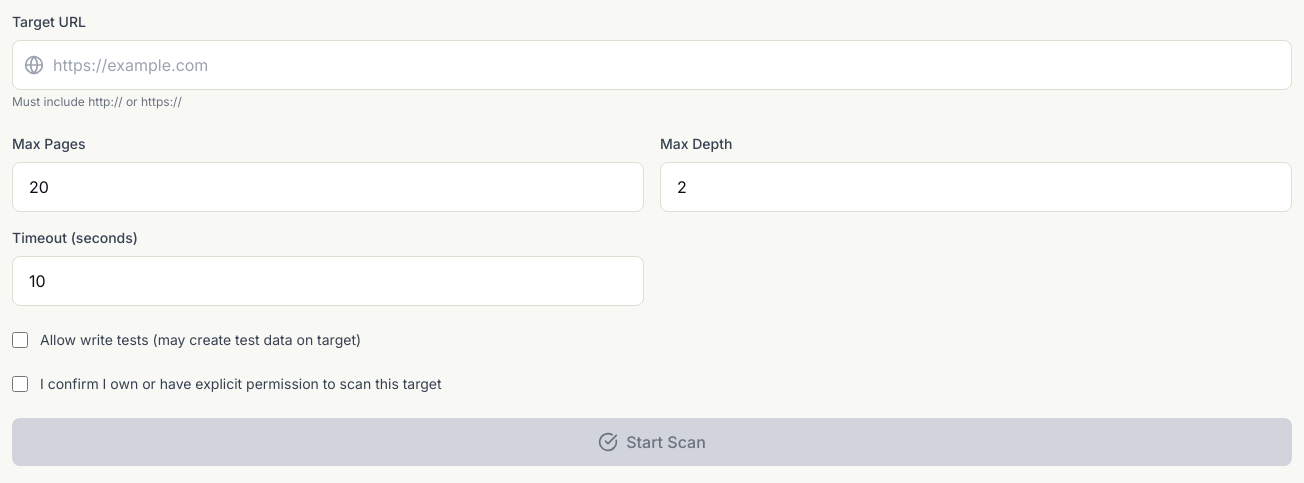
ScanWizard › clamps maxDepth to 0-10 range
The width and height of the screenshot is (1304, 483).
Replace the text in the number field labelled "Max Depth" with "-1" at (976, 187), box [660,162,1292,212]
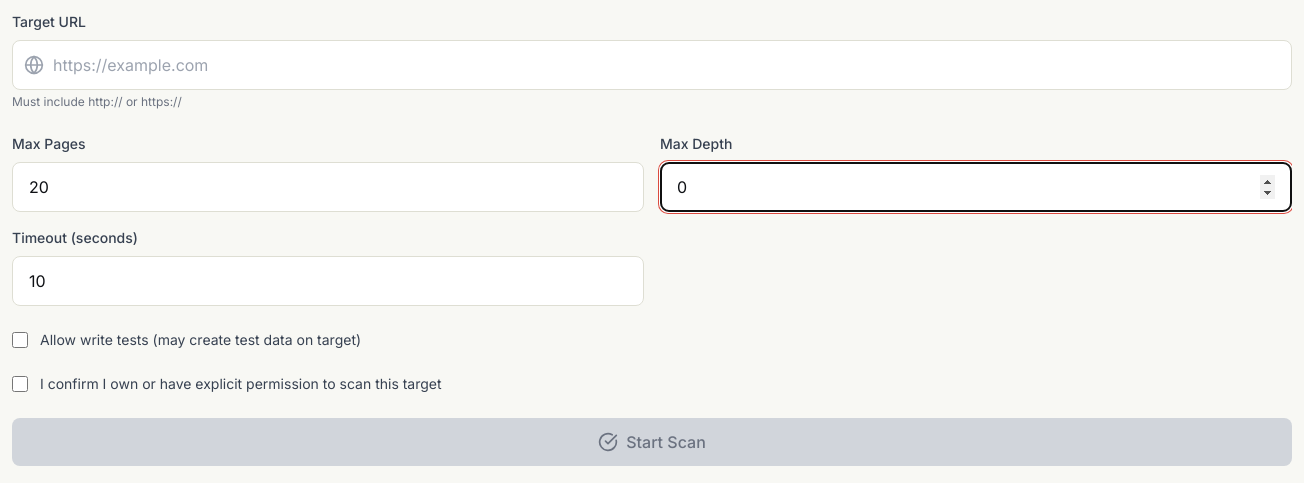
Check: the number field labelled "Max Depth" holds "0"
Replace the text in the number field labelled "Max Depth" with "11" at (976, 187), box [660,162,1292,212]
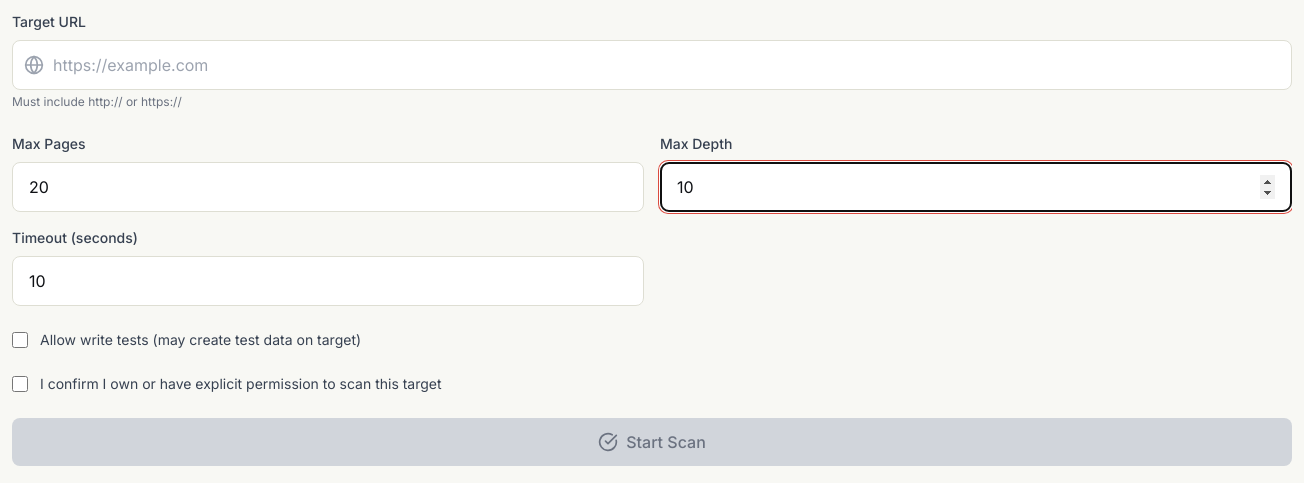
Check: the number field labelled "Max Depth" holds "10", box [660,162,1292,212]
